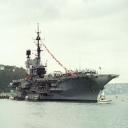Portanaves: (9, 20, 122, 106)
